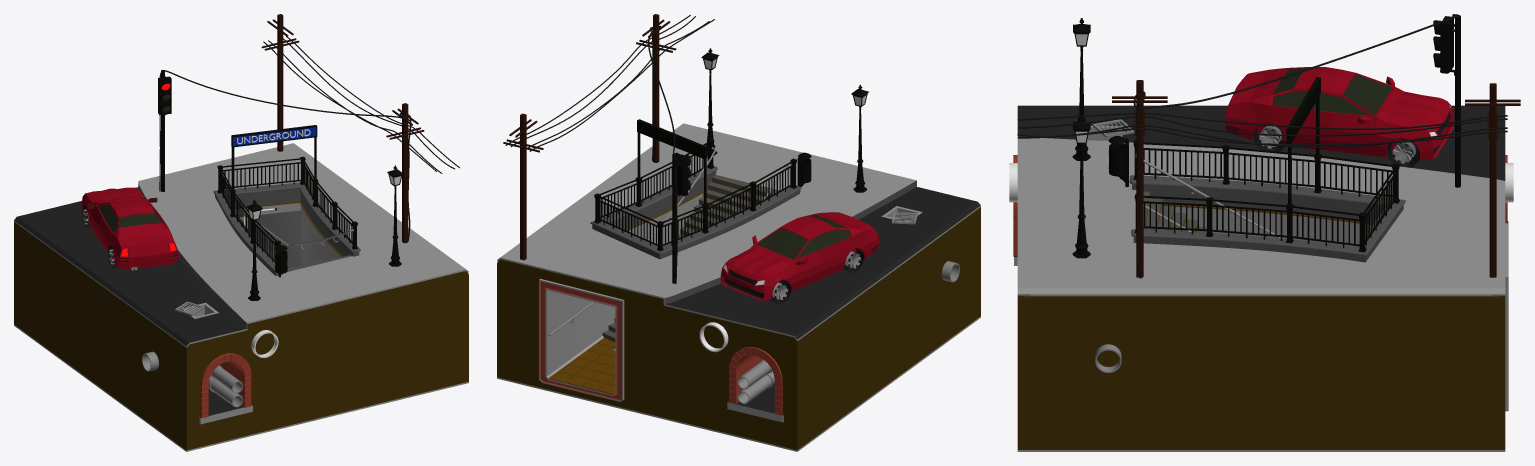
The model's file is Entrance Section.fbx.
The picture shows the model from 3 angles, left to right: view 1: azimuth 30°, elevation 25°; view 2: azimuth 150°, elevation 25°; view 3: azimuth 270°, elevation 25°; orthographic projection. The views are drawn at different scales.
Visible parts, largest first — view 1: Soil, Underground, Car, Railing, railing 2, Sewer, wood pole 1, wood pole 2, Sewer soil, wire 5, street lamp 2, street lamp 1 (+2 smaller); view 2: Soil, Underground, Car, Railing, railing 2, underground floor, stairs, Sewer, wood pole 2, wood pole 1, Sewer soil, street lamp 1 (+4 smaller); view 3: Soil, Underground, Car, Railing, railing 2, wood pole 2, wood pole 1, wire 5, wire 3, wire 1, street lamp 2, wire 4 (+10 smaller).
Part boxes in pixels (left/top/right/bottom): Soil: left=14, top=143, right=468, bottom=451; Underground: left=213, top=182, right=360, bottom=275; Car: left=81, top=187, right=178, bottom=270; Railing: left=220, top=158, right=353, bottom=262; railing 2: left=217, top=125, right=357, bottom=250; Sewer: left=200, top=353, right=251, bottom=418; wood pole 1: left=386, top=103, right=424, bottom=243; wood pole 2: left=261, top=14, right=299, bottom=151; Sewer soil: left=199, top=388, right=252, bottom=424; wire 5: left=159, top=70, right=411, bottom=240; street lamp 2: left=387, top=165, right=403, bottom=266; street lamp 1: left=246, top=200, right=262, bottom=300; Soil: left=497, top=123, right=980, bottom=451; Underground: left=539, top=166, right=801, bottom=401; Car: left=720, top=212, right=879, bottom=300; Railing: left=598, top=141, right=793, bottom=245; railing 2: left=594, top=119, right=796, bottom=251; underground floor: left=548, top=337, right=615, bottom=394; stairs: left=602, top=175, right=778, bottom=341; Sewer: left=729, top=347, right=782, bottom=414; wood pole 2: left=503, top=113, right=543, bottom=260; wood pole 1: left=636, top=14, right=676, bottom=162; Sewer soil: left=727, top=384, right=783, bottom=422; street lamp 1: left=851, top=85, right=868, bottom=192; Soil: left=1017, top=105, right=1505, bottom=451; Underground: left=1129, top=175, right=1508, bottom=411; Car: left=1225, top=67, right=1454, bottom=160; Railing: left=1143, top=142, right=1396, bottom=248; railing 2: left=1133, top=77, right=1399, bottom=252; wood pole 2: left=1465, top=83, right=1520, bottom=277; wood pole 1: left=1112, top=80, right=1167, bottom=277; wire 5: left=1133, top=15, right=1458, bottom=278; wire 3: left=1017, top=116, right=1507, bottom=136; wire 1: left=1017, top=128, right=1507, bottom=145; street lamp 2: left=1072, top=115, right=1090, bottom=258; wire 4: left=1017, top=112, right=1507, bottom=129.
Size of the model in its own units: 199 by 161 by 210.
